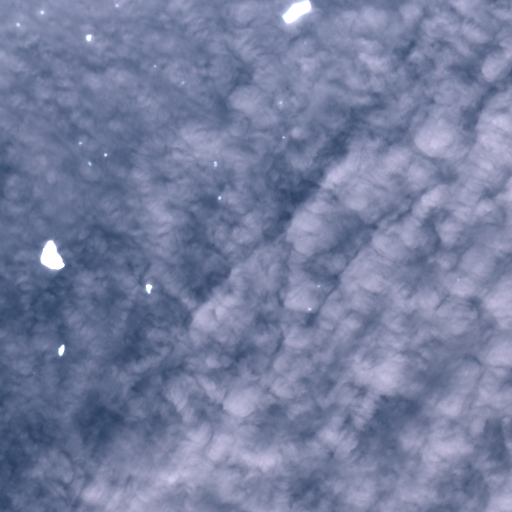Iceberg: (40, 240, 65, 269), (282, 0, 310, 22), (58, 344, 65, 356), (145, 284, 152, 293), (86, 34, 91, 41), (214, 161, 217, 166), (217, 196, 221, 199), (104, 153, 107, 156), (88, 162, 91, 165), (308, 307, 311, 310), (115, 4, 118, 6), (41, 10, 43, 13), (16, 23, 19, 25), (153, 65, 156, 67), (181, 81, 184, 83), (79, 142, 82, 144), (317, 285, 320, 287), (279, 101, 281, 103), (282, 136, 284, 138)
